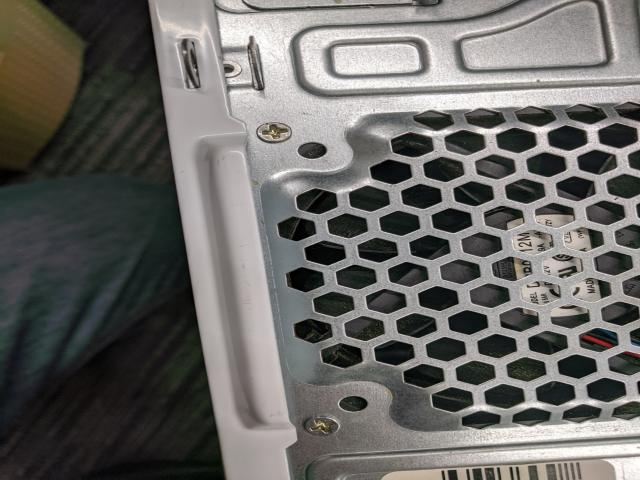CRS: (252, 122, 294, 144), (302, 416, 342, 436)
